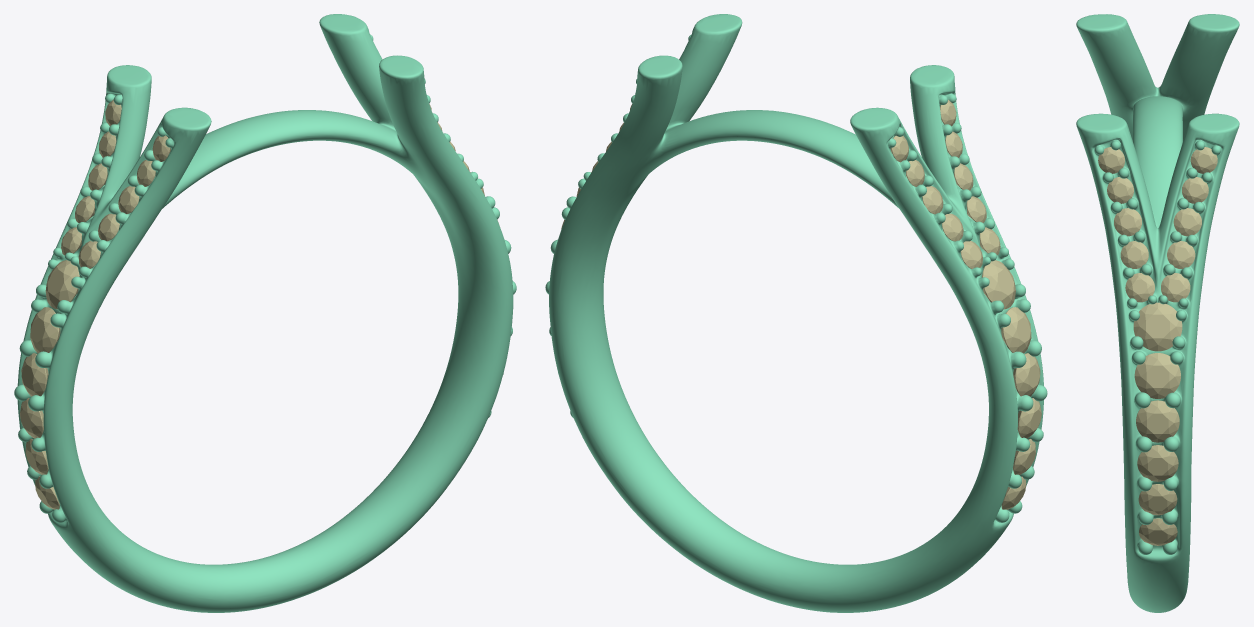
The picture shows the model from 3 angles, left to right: view 1: azimuth 30°, elevation 25°; view 2: azimuth 150°, elevation 25°; view 3: azimuth 270°, elevation 25°; orthographic projection. The views are drawn at different scales.
Parts seen in each view (by area): view 1: Metal02, Diamond_Gem.010, Diamond_Gem.005, Diamond_Gem.006; view 2: Metal02, Diamond_Gem.010, Diamond_Gem.005, Diamond_Gem.006; view 3: Metal02, Diamond_Gem.021, Diamond_Gem.026, Diamond_Gem.025, Diamond_Gem.024, Diamond_Gem.022, Diamond_Gem.023, Diamond_Gem.020, Diamond_Gem.027, Diamond_Gem.016, Diamond_Gem.030, Diamond_Gem.017 (+5 smaller).
Part boxes in pixels (x1,y1,x2,y2): Metal02: (14,14,516,612); Diamond_Gem.010: (45,260,79,309); Diamond_Gem.005: (30,307,60,353); Diamond_Gem.006: (21,353,48,396); Metal02: (545,14,1047,612); Diamond_Gem.010: (982,260,1015,309); Diamond_Gem.005: (1001,307,1031,353); Diamond_Gem.006: (1013,353,1040,396); Metal02: (1076,14,1239,612); Diamond_Gem.021: (1133,302,1182,351); Diamond_Gem.026: (1134,353,1180,398); Diamond_Gem.025: (1136,400,1179,442); Diamond_Gem.024: (1137,445,1178,481); Diamond_Gem.022: (1138,484,1177,515); Diamond_Gem.023: (1139,518,1177,545); Diamond_Gem.020: (1161,273,1190,302); Diamond_Gem.027: (1125,273,1154,302); Diamond_Gem.016: (1173,208,1201,236); Diamond_Gem.030: (1120,241,1148,268); Diamond_Gem.017: (1167,241,1195,268).
Size of the model in its own units: 21.08 by 22.13 by 6.34.
